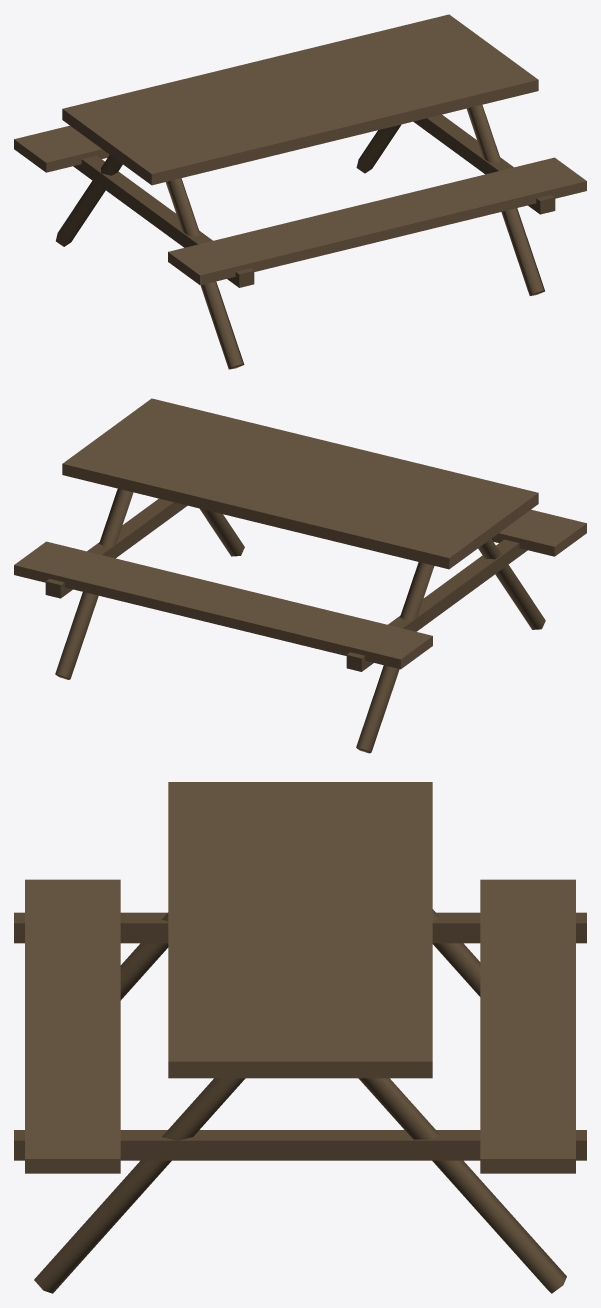
The model's file is SM_PicnicTable_Wood.glb.
3 renders of one model, top to bottom at view 1: azimuth 30°, elevation 25°; view 2: azimuth 150°, elevation 25°; view 3: azimuth 270°, elevation 25°, orthographic. The views are drawn at different scales.
Parts seen in each view (by area): view 1: SM_PicnicTable_Wood; view 2: SM_PicnicTable_Wood; view 3: SM_PicnicTable_Wood.
Boxes of the visible parts, box(x1,y1,x2,y2) form: SM_PicnicTable_Wood: box(14, 14, 586, 369); SM_PicnicTable_Wood: box(14, 398, 586, 753); SM_PicnicTable_Wood: box(14, 782, 586, 1293).
Size of the model in its own units: 1.8 by 0.786 by 1.56.
